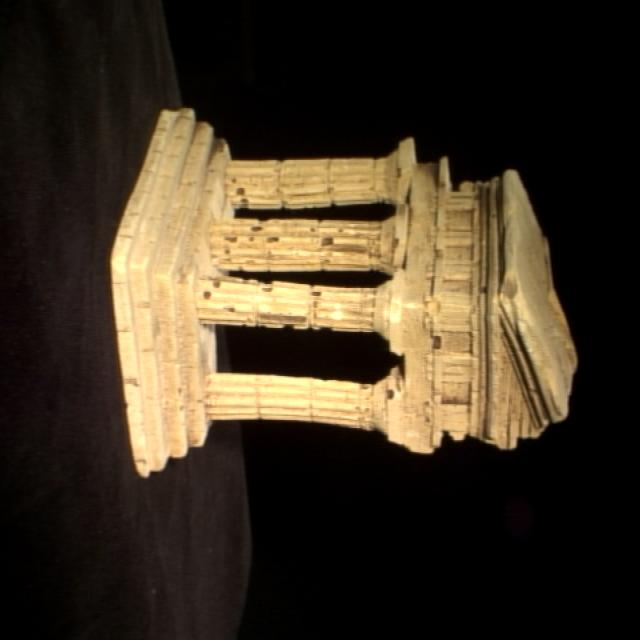Instance-Segmentation: (112, 109, 576, 476)
